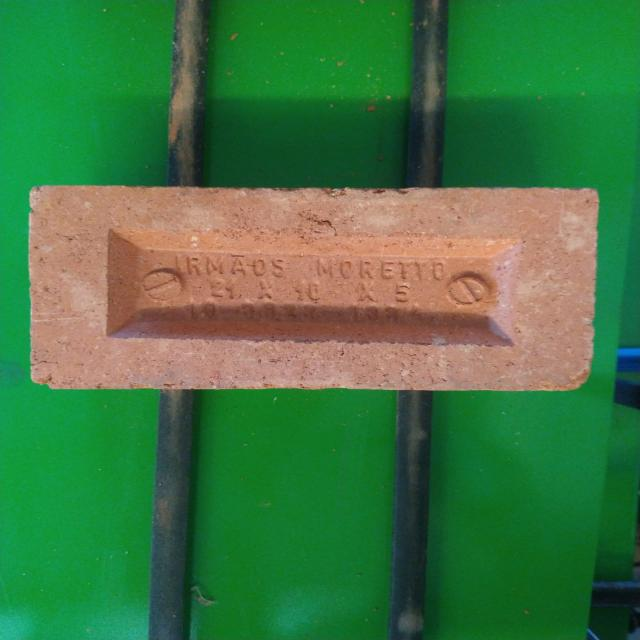bricks: (28, 183, 600, 388)
